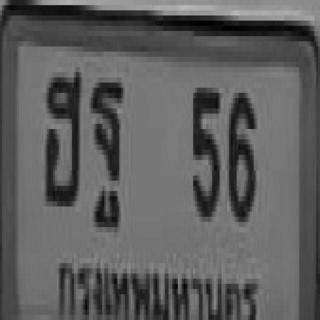A16: (89, 77, 121, 206)
A44: (44, 67, 80, 201)
N05: (191, 80, 218, 214)
N06: (227, 88, 254, 217)
P04: (55, 248, 260, 320)
